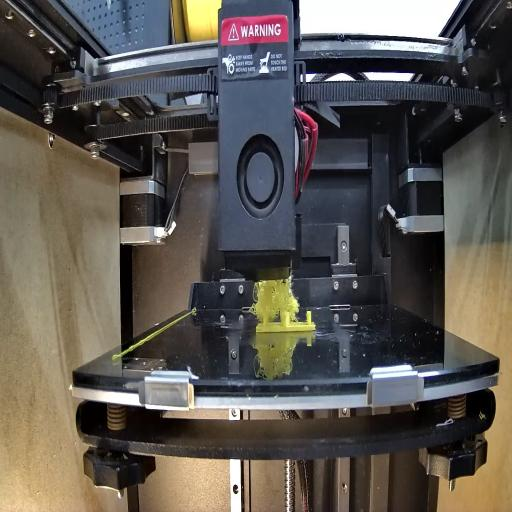spaghetti: (248, 272, 301, 319)
